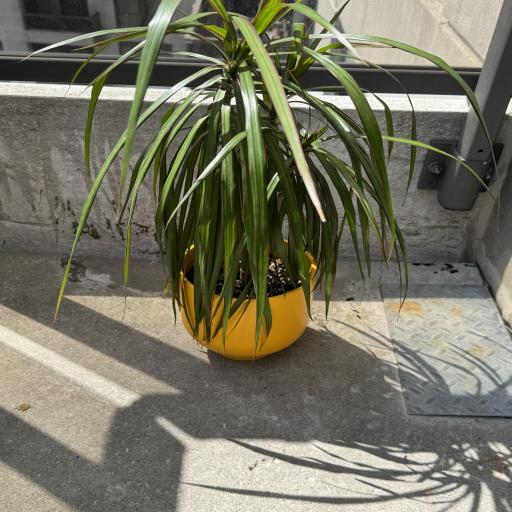Plant Pot: (177, 238, 316, 361)
